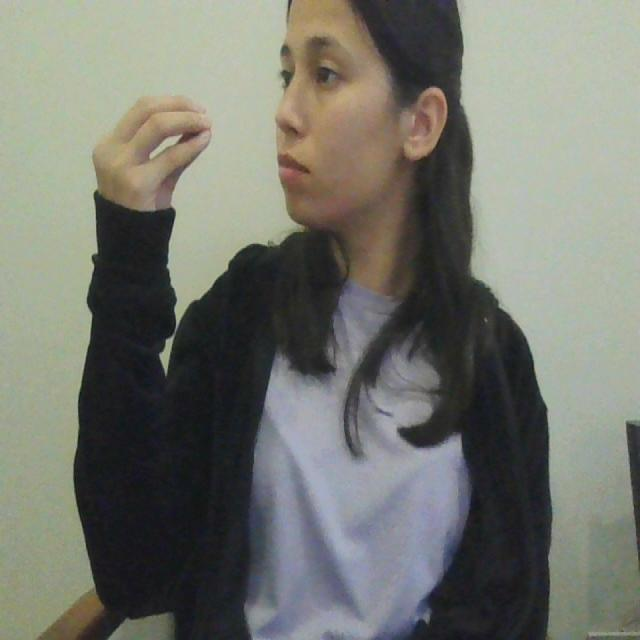Yemek: (88, 89, 305, 182)
